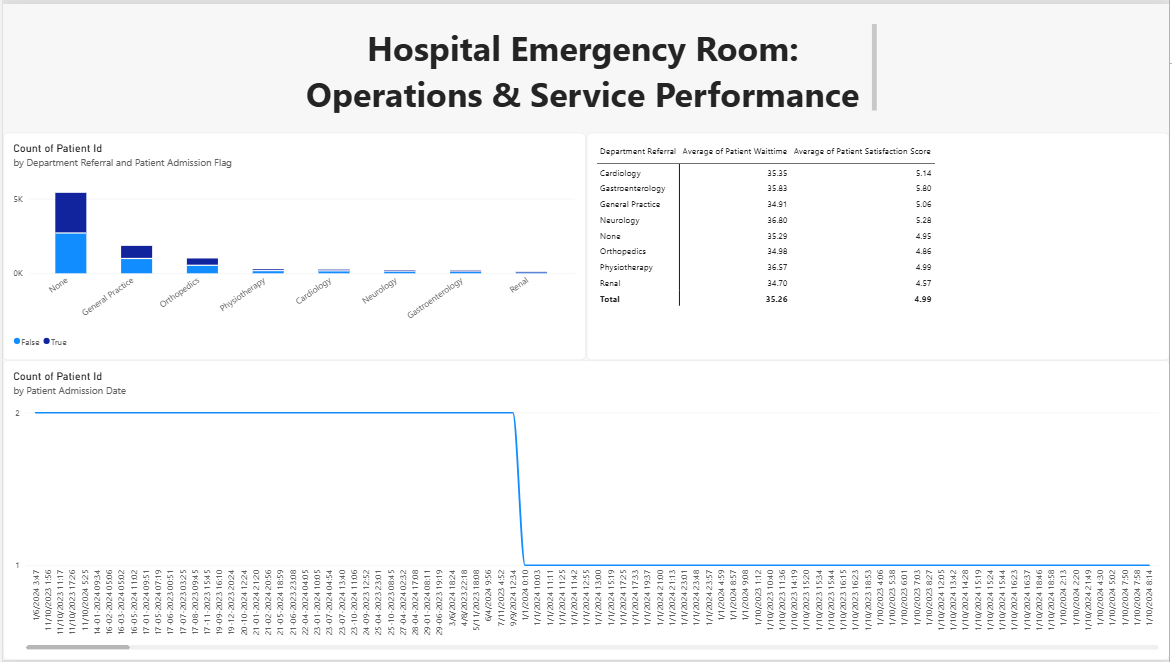

What the dashboard file says about the page in this screenshot:
{"tool":"powerbi","page":{"name":"Hospital Operations & Service Performance","canvas":[1920,1080],"ordinal":1},"visuals":[{"type":"columnChart","fields":{"Category":["Hospital ER_Data.Department Referral"],"Series":["Hospital ER_Data.Patient Admission Flag"],"Y":["CountNonNull(Hospital ER_Data.Patient Id)"]},"box":[0,212,959.2,374.6],"z":0},{"type":"lineChart","fields":{"Category":["Hospital ER_Data.Patient Admission Date"],"Y":["CountNonNull(Hospital ER_Data.Patient Id)"]},"box":[0,586.6,1920.4,494],"z":1000},{"type":"pivotTable","fields":{"Rows":["Hospital ER_Data.Department Referral"],"Values":["Avg(Hospital ER_Data.Patient Waittime)","Avg(Hospital ER_Data.Patient Satisfaction Score)"]},"box":[961.2,212,959.2,374.6],"z":2000},{"type":"textbox","box":[479.6,32.9,959.2,146.1],"z":2001}]}

Visuals, with their boxes in screenshot pixels (x1, y1, x2, y2), scaled from the page's 1920x1080 canvas onto the 1172x662 screenshot:
columnChart - Hospital ER_Data.Department Referral x Hospital ER_Data.Patient Admission Flag: {"left": 0, "top": 130, "right": 586, "bottom": 360}
lineChart - Hospital ER_Data.Patient Admission Date x CountNonNull(Hospital ER_Data.Patient Id): {"left": 0, "top": 360, "right": 1171, "bottom": 661}
pivotTable - Hospital ER_Data.Department Referral x Avg(Hospital ER_Data.Patient Waittime): {"left": 587, "top": 130, "right": 1171, "bottom": 360}
textbox: {"left": 293, "top": 20, "right": 878, "bottom": 110}
